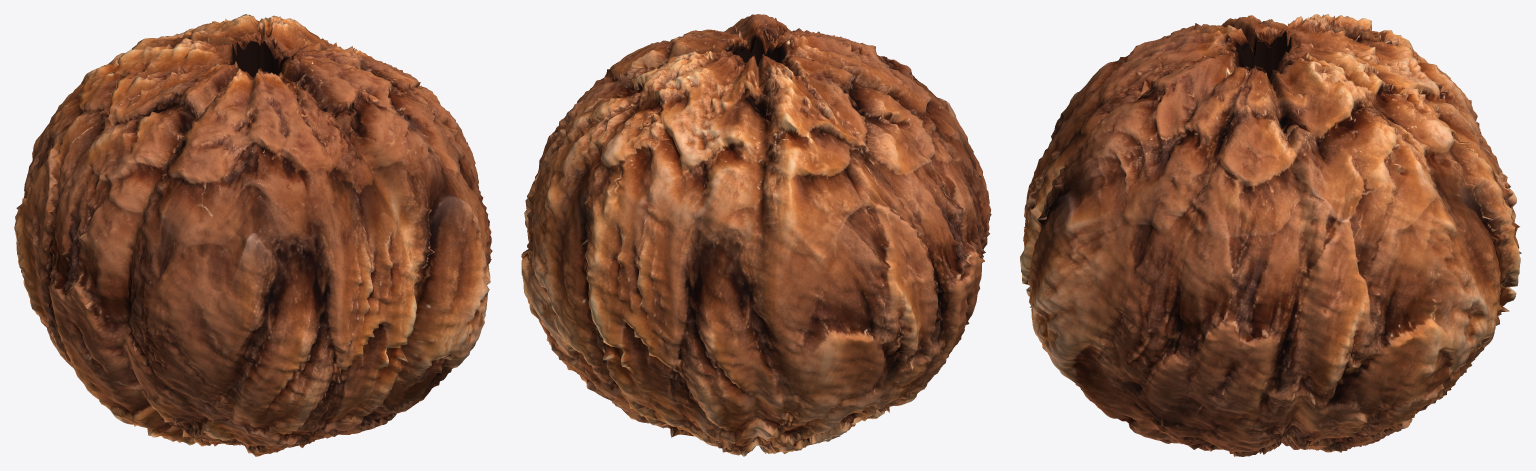
File: 4-mukhi-indonesia.glb
3 views of the same model, side by side, from view 1: azimuth 30°, elevation 25°; view 2: azimuth 150°, elevation 25°; view 3: azimuth 270°, elevation 25° (orthographic). The views are drawn at different scales.
Parts seen in each view (by area): view 1: seed; view 2: seed; view 3: seed.
Boxes of the visible parts, x1,y1,x2,y2 form: seed: (14,14,492,456); seed: (521,14,991,456); seed: (1020,14,1521,456).
Size of the model in its own units: 0.0196 by 0.0178 by 0.02.
Materials: 1 (1 with a texture image).
